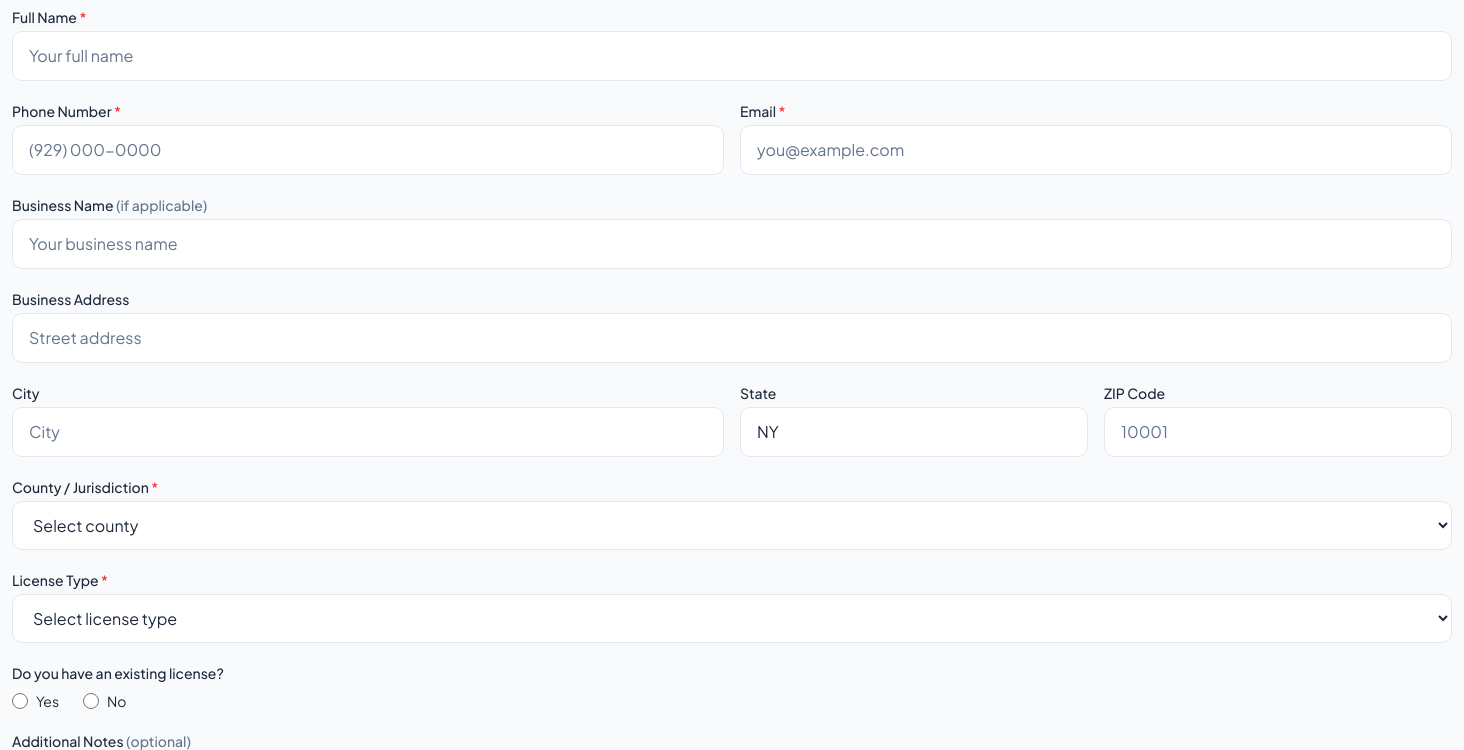
Test: HomeImprovementForm › shows an error message when the API returns a failure
The width and height of the screenshot is (1464, 750).
In the field labelled "Full Name *": (732, 56) top-left (12, 31), bottom-right (1452, 81), type "Jamie Contractor"
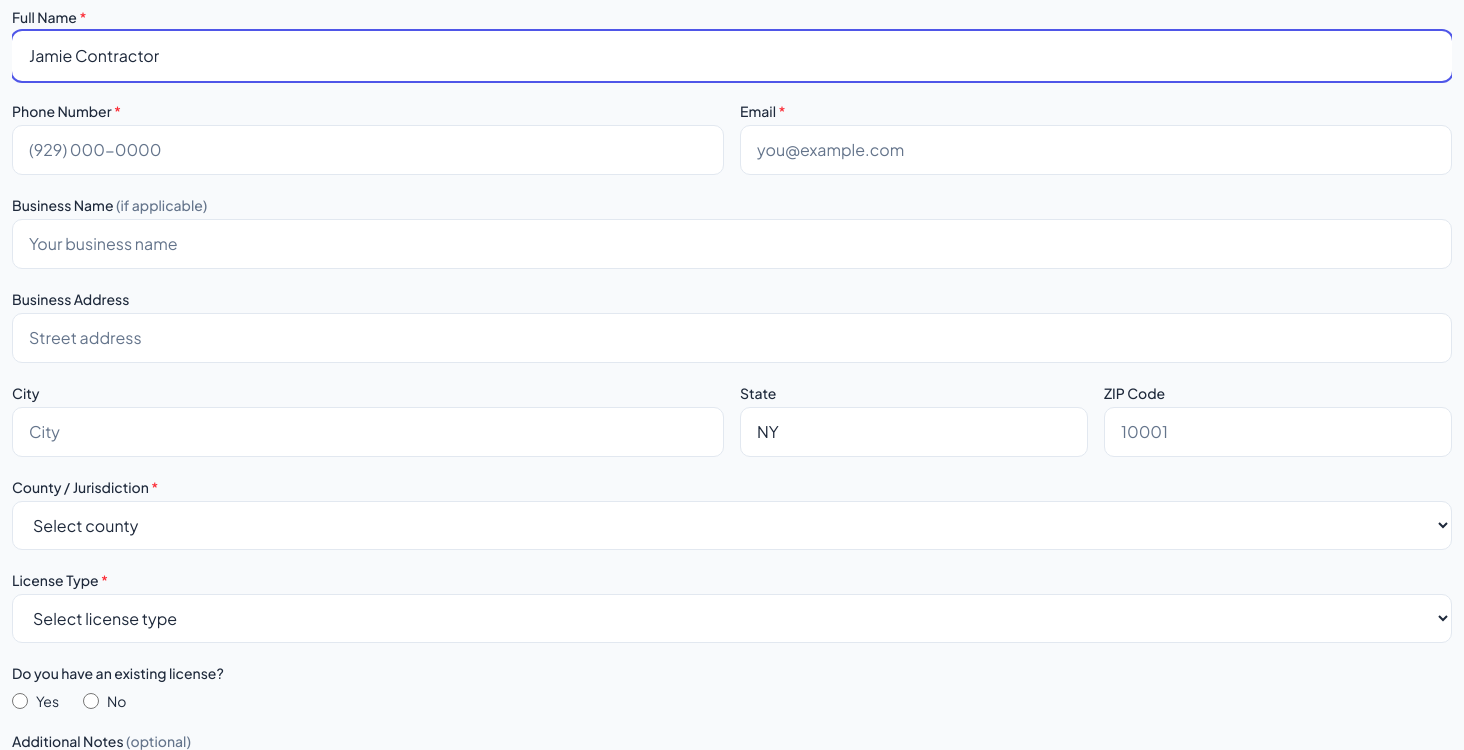
In the field labelled "Phone Number *": (368, 150) top-left (12, 125), bottom-right (724, 175), type "9295550103"
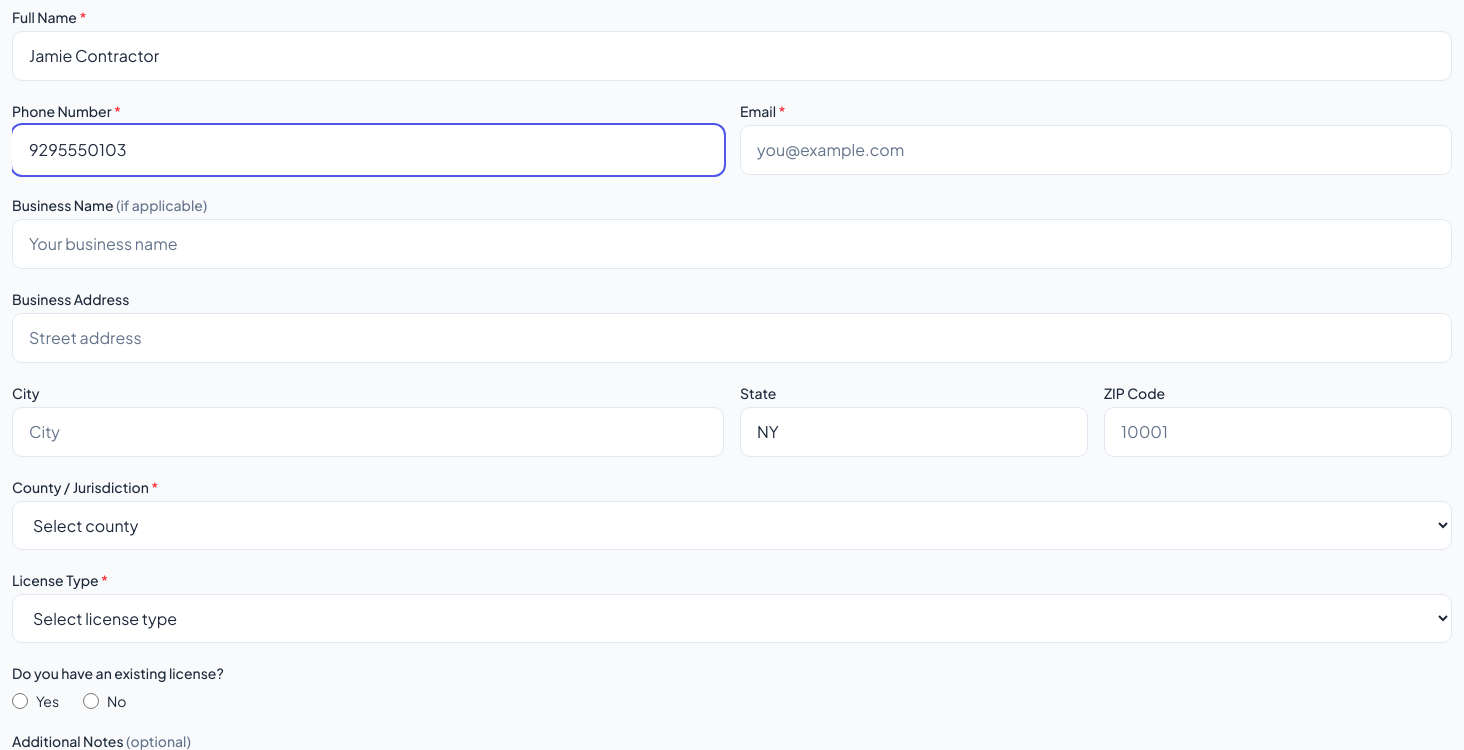
In the field labelled "Email *": (1096, 150) top-left (740, 125), bottom-right (1452, 175), type "jamie@example.com"
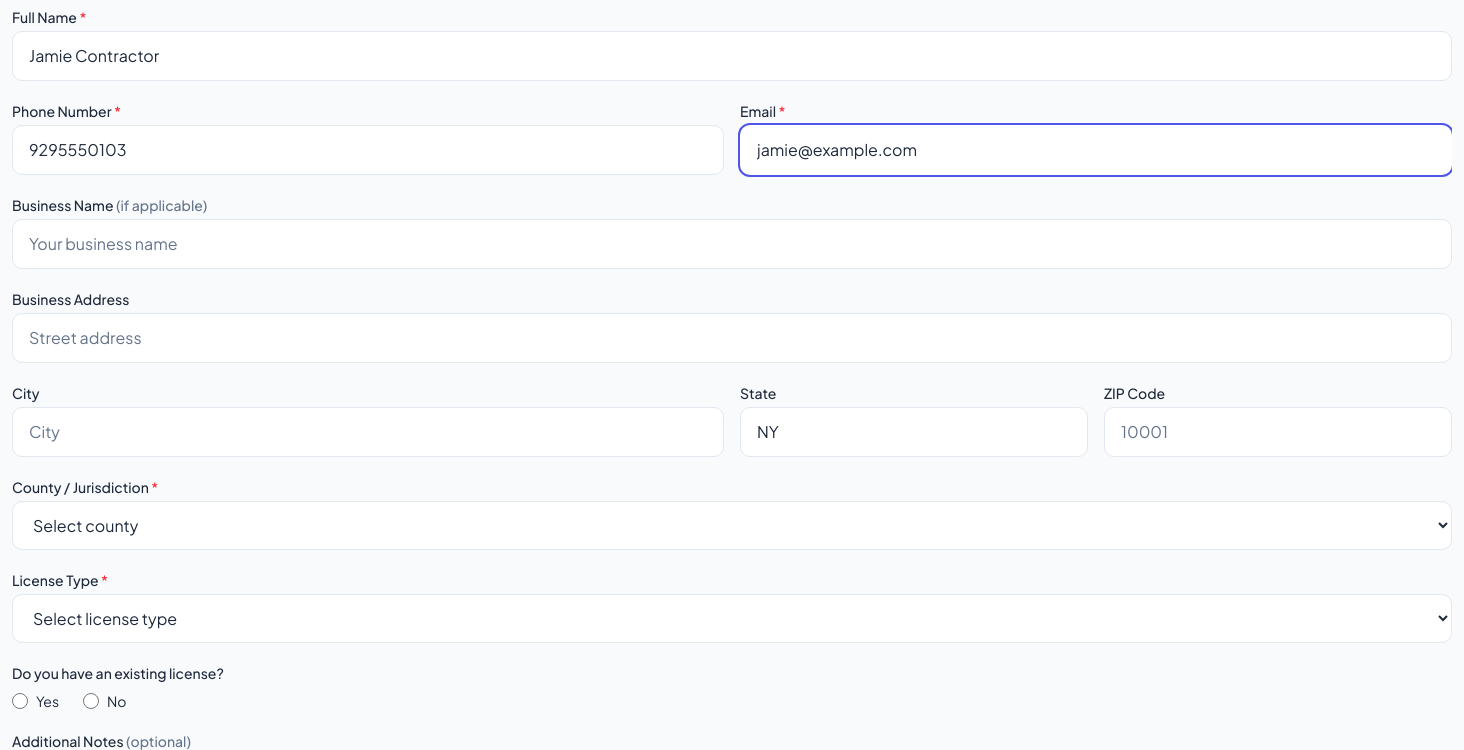
Select "NYC — Queens" in the dropdown labelled "County / Jurisdiction *": (732, 526) top-left (12, 501), bottom-right (1452, 550)
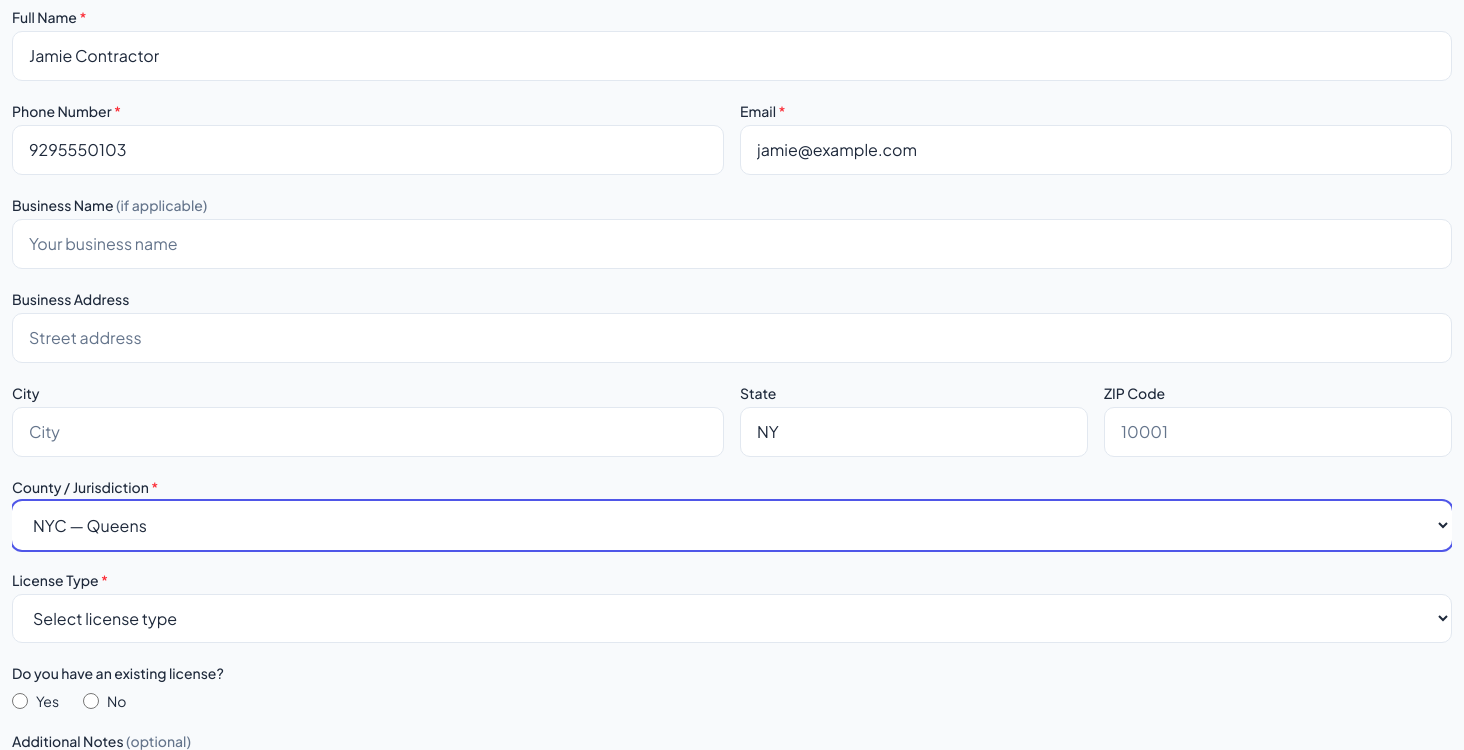
Select "General Contractor (NYC Only)" in the dropdown labelled "License Type *": (732, 618) top-left (12, 594), bottom-right (1452, 643)
(page scrolled)
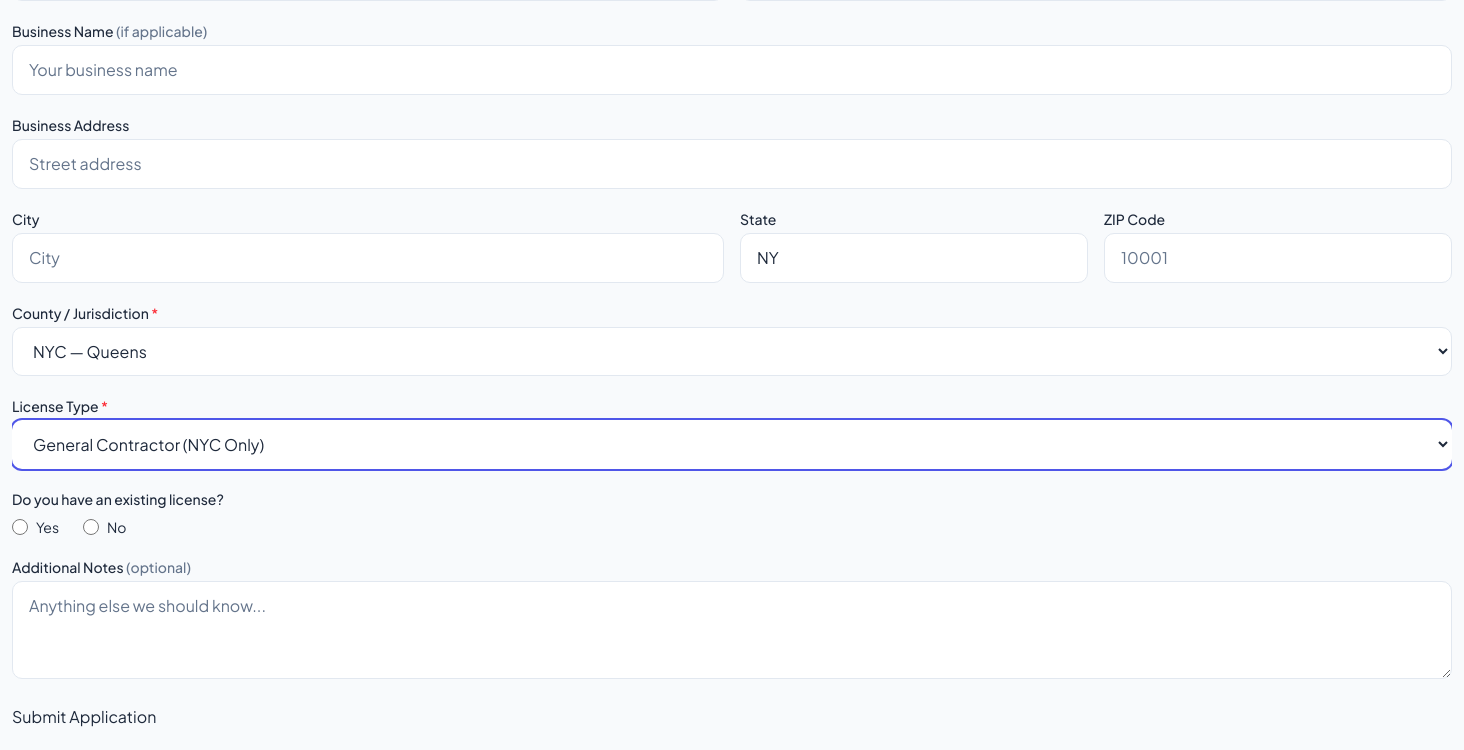
Click the button "Submit Application": (84, 717) top-left (12, 705), bottom-right (156, 729)
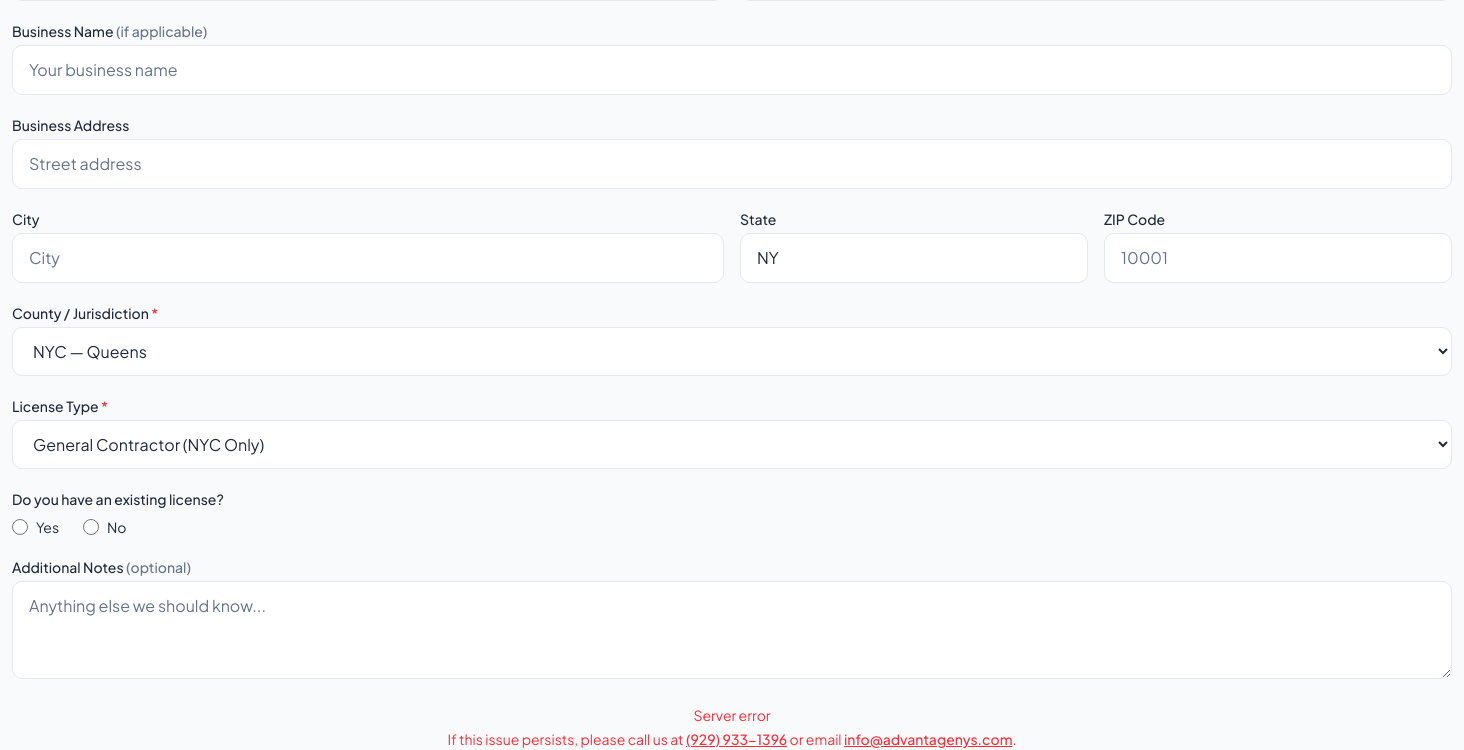
Check: the text "Server error" is shown, box top-left (693, 706), bottom-right (771, 724)
